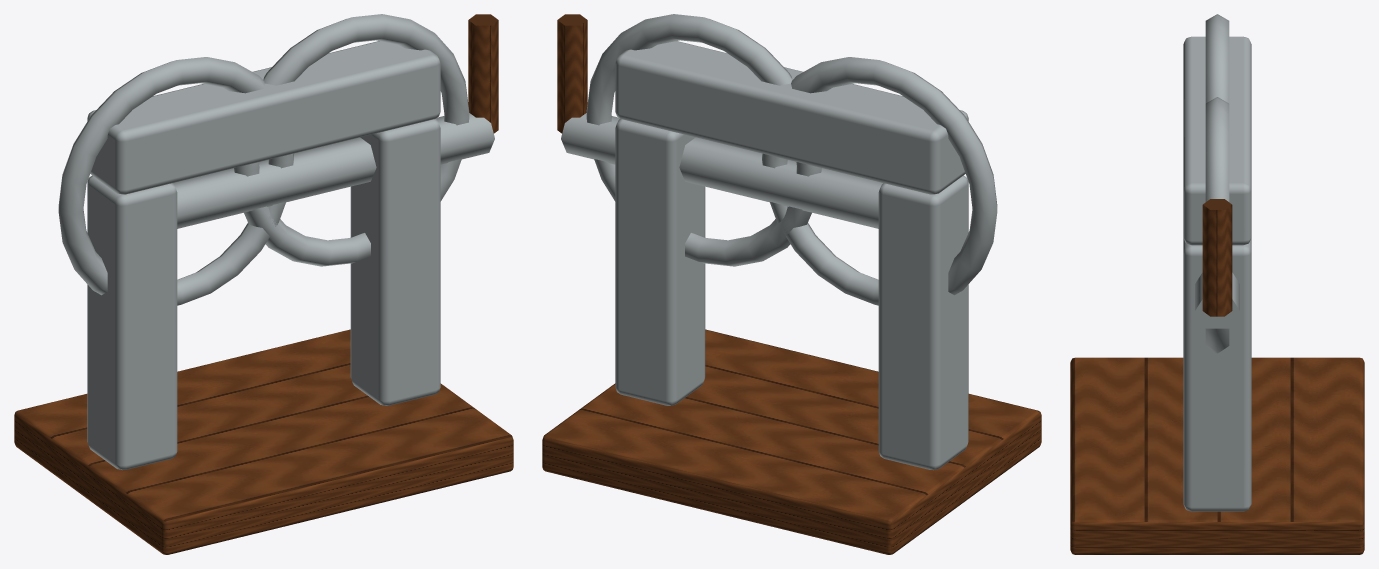
Rendered from salvage-and-repair-workshop-coil-winding-jig-1c6b4a56__25455.glb.
3 views of the same model, side by side, from view 1: azimuth 30°, elevation 25°; view 2: azimuth 150°, elevation 25°; view 3: azimuth 270°, elevation 25° (orthographic). The views are drawn at different scales.
Parts seen in each view (by area): view 1: coil-winding-jig; view 2: coil-winding-jig; view 3: coil-winding-jig.
Part boxes in pixels (left/top/right/bottom): coil-winding-jig: left=14, top=14, right=513, bottom=554; coil-winding-jig: left=542, top=14, right=1041, bottom=554; coil-winding-jig: left=1070, top=14, right=1364, bottom=554.
Size of the model in its own units: 0.497 by 0.458 by 0.3.
Materials: 2 (1 with a texture image).
